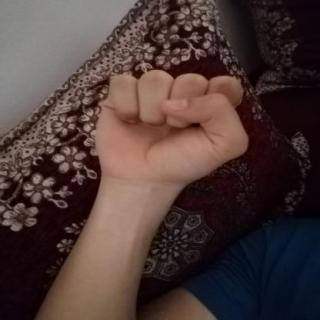SAD: (75, 59, 260, 199)
